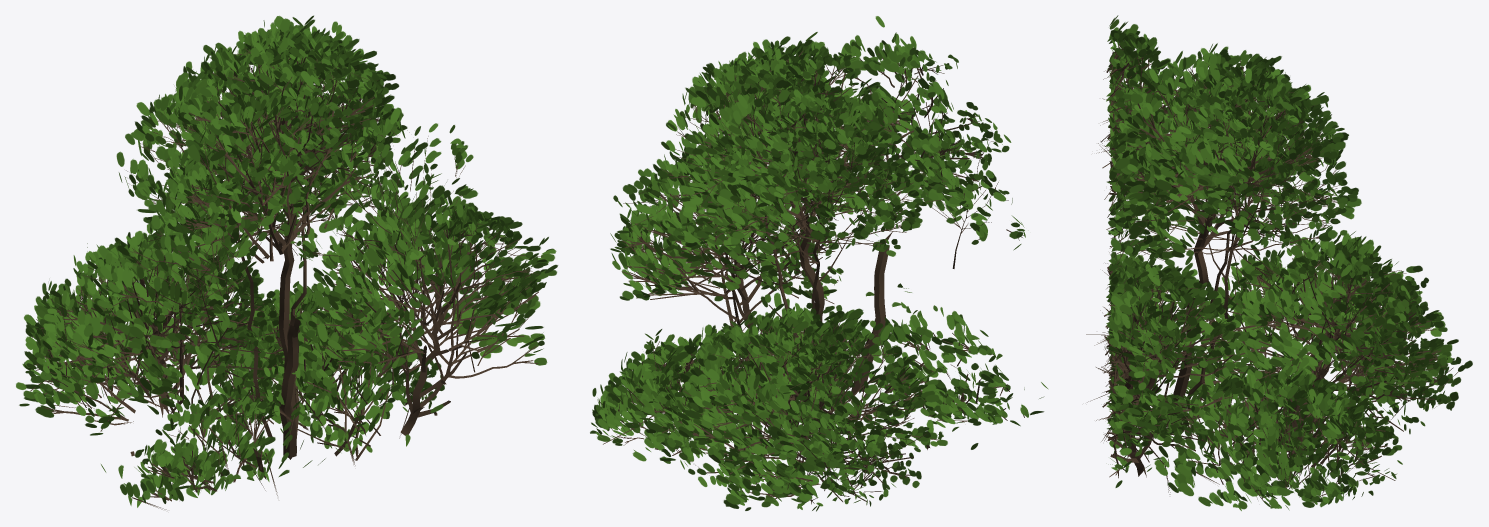
The picture shows the model from 3 angles, left to right: view 1: azimuth 30°, elevation 25°; view 2: azimuth 150°, elevation 25°; view 3: azimuth 270°, elevation 25°; orthographic projection. The views are drawn at different scales.
Parts seen in each view (by area): view 1: oak 01.001_trunk_Mat.001_0.409; view 2: oak 01.001_trunk_Mat.001_0.409; view 3: oak 01.001_trunk_Mat.001_0.409.
Part boxes in pixels (box(x1,y1,x2,y2)): oak 01.001_trunk_Mat.001_0.409: box(16, 15, 557, 509); oak 01.001_trunk_Mat.001_0.409: box(590, 16, 1048, 511); oak 01.001_trunk_Mat.001_0.409: box(1086, 15, 1472, 510).
Size of the model in its own units: 3.66 by 3.25 by 2.86.
Materials: 2 (1 with a texture image).
